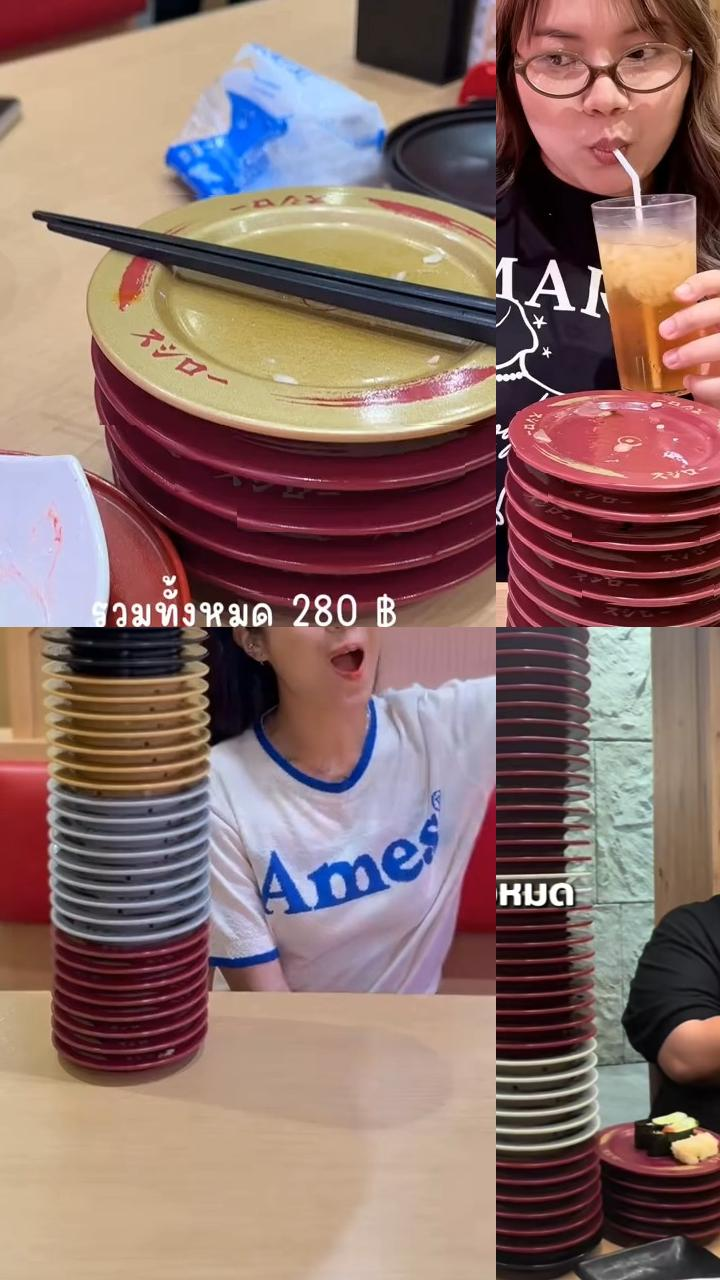Janback: (65, 646, 214, 661), (62, 630, 213, 644), (496, 1259, 588, 1274)
Jangold: (58, 193, 496, 428), (60, 721, 199, 740), (62, 755, 200, 773), (61, 706, 198, 723), (65, 773, 189, 788), (65, 675, 206, 688), (62, 690, 203, 703), (60, 743, 194, 755)
Janred: (514, 411, 720, 474), (166, 459, 474, 494), (219, 506, 459, 535), (600, 1122, 720, 1175), (544, 484, 720, 520), (244, 546, 445, 571), (574, 578, 720, 605), (560, 549, 720, 573), (566, 609, 720, 627), (561, 526, 712, 544), (201, 574, 294, 595), (616, 1177, 720, 1194), (496, 662, 583, 682), (496, 751, 588, 769), (76, 944, 192, 958), (496, 819, 591, 836), (496, 785, 593, 801), (71, 1024, 181, 1038), (78, 1040, 216, 1051), (496, 802, 589, 818), (496, 630, 587, 646), (496, 680, 581, 697), (496, 733, 589, 748), (78, 1054, 191, 1066), (496, 837, 592, 851), (496, 699, 585, 714), (496, 721, 585, 736), (71, 976, 189, 987), (496, 772, 588, 786), (496, 647, 577, 662), (496, 856, 591, 868), (625, 1198, 720, 1210), (496, 1004, 576, 1018), (76, 1009, 193, 1018), (496, 1239, 576, 1252), (496, 1224, 587, 1235), (496, 925, 579, 937), (496, 958, 572, 971), (496, 1208, 578, 1220), (65, 962, 201, 969), (77, 993, 195, 1001), (496, 941, 574, 953), (496, 1039, 579, 1050), (496, 1191, 587, 1201), (496, 909, 578, 920), (496, 975, 571, 987), (632, 1214, 720, 1224), (496, 1024, 571, 1035), (496, 1159, 575, 1169), (610, 1222, 661, 1237), (496, 991, 571, 1001), (496, 1176, 579, 1185), (694, 1227, 720, 1241)
Janwhite: (72, 861, 192, 878), (63, 810, 193, 824), (65, 829, 199, 842), (77, 894, 192, 909), (75, 799, 213, 810), (78, 848, 200, 860), (79, 928, 193, 940), (496, 1072, 583, 1087), (80, 913, 198, 924), (496, 1104, 585, 1118), (74, 880, 184, 891), (496, 1058, 584, 1071), (496, 1092, 583, 1103), (496, 1125, 581, 1136), (496, 1141, 576, 1150), (496, 873, 592, 880)
